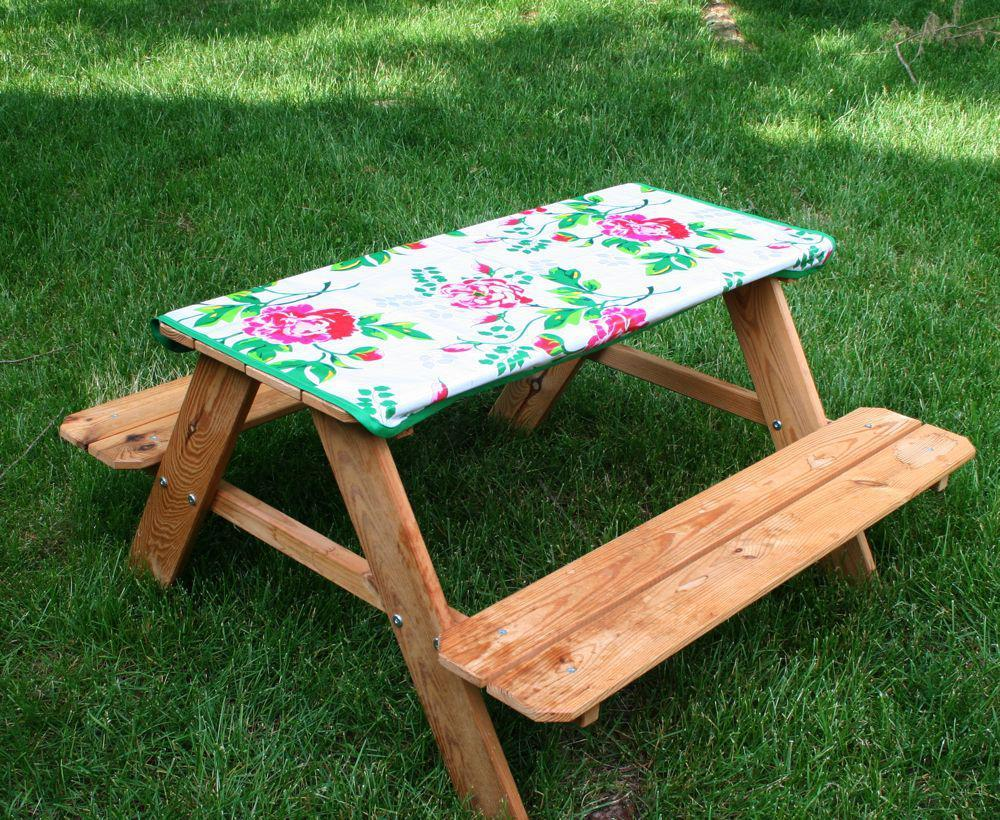Table: (62, 182, 990, 819)
